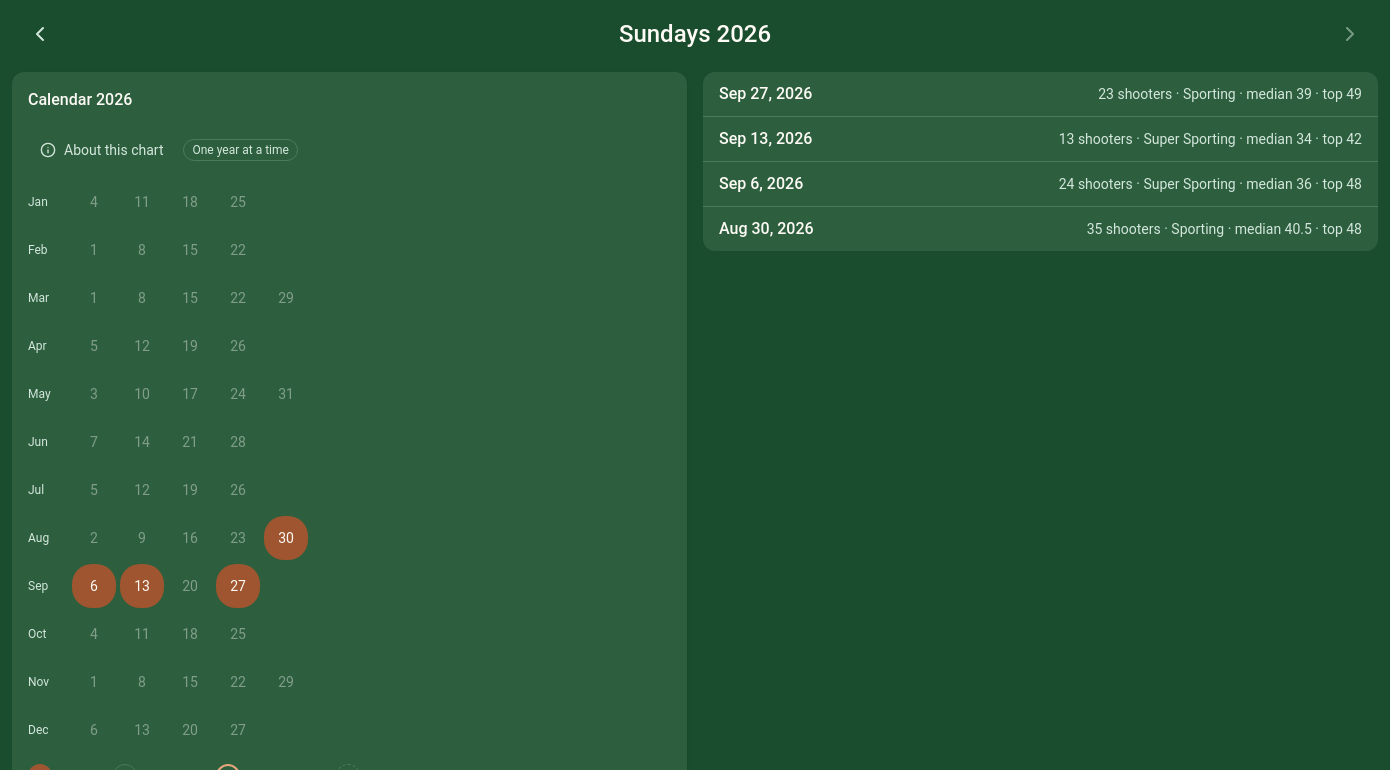
EventsPage › previous-season button loads that season, including attendance-only events
Click the button named "Previous year": click(40, 34) left=12, top=12, right=68, bottom=56
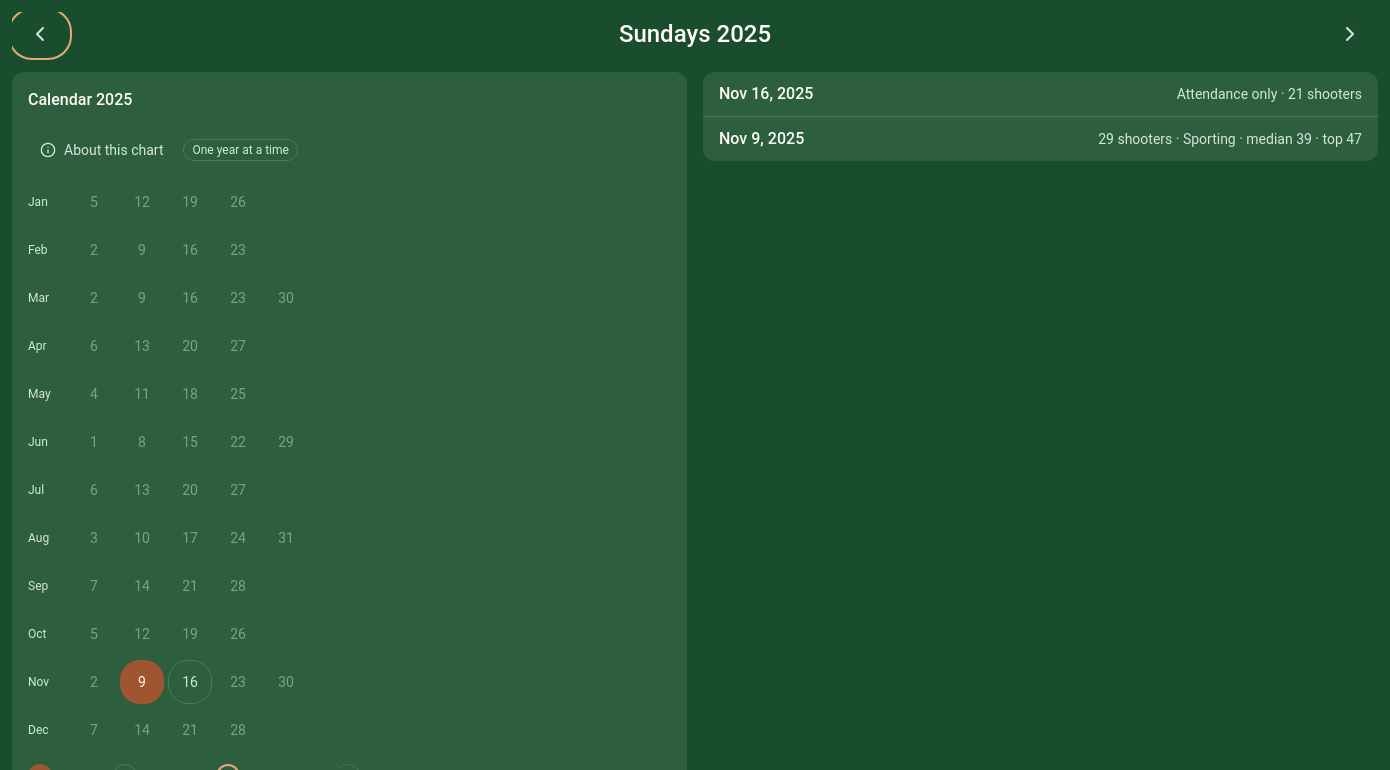
Check: the heading "Sundays 2025" is shown, box left=619, top=18, right=771, bottom=50
Check: the text "Attendance only · 21 shooters" is shown, box left=1177, top=84, right=1362, bottom=104
